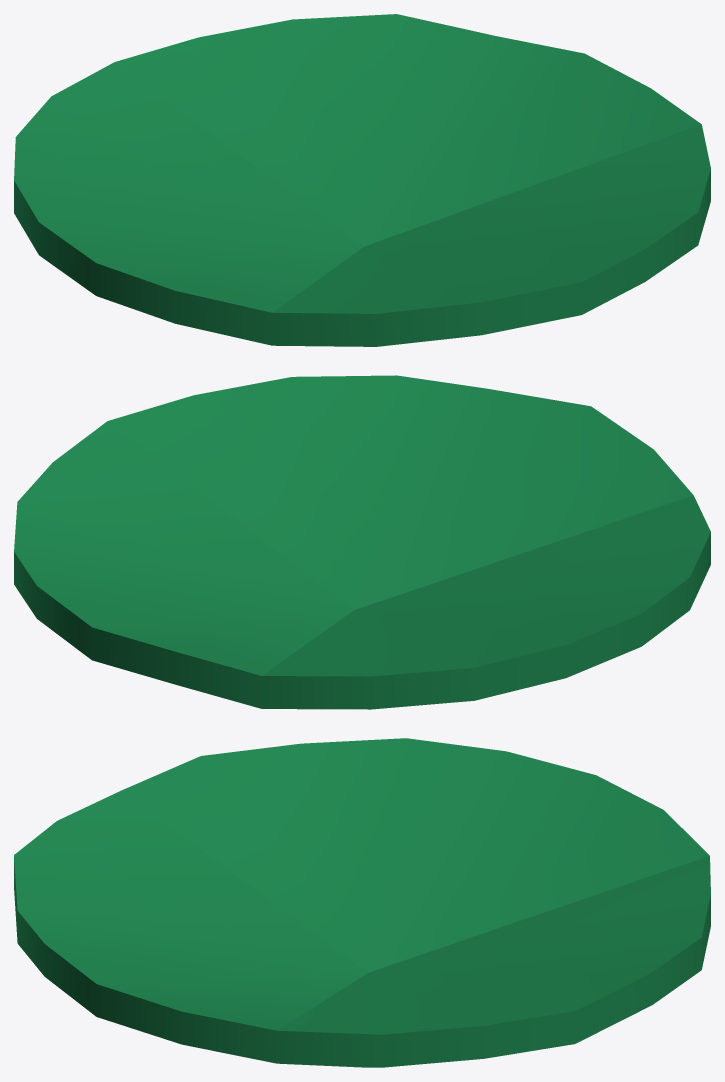
The model's file is plant_mushroom_leaf_C_thick.fbx.
3 renders of one model, top to bottom at view 1: azimuth 30°, elevation 25°; view 2: azimuth 150°, elevation 25°; view 3: azimuth 270°, elevation 25°, orthographic.
Parts seen in each view (by area): view 1: plant_mushroom_leaf_C_thick; view 2: plant_mushroom_leaf_C_thick; view 3: plant_mushroom_leaf_C_thick.
Part boxes in pixels (x1=…): plant_mushroom_leaf_C_thick: x1=14, y1=14, x2=710, y2=346; plant_mushroom_leaf_C_thick: x1=14, y1=375, x2=710, y2=709; plant_mushroom_leaf_C_thick: x1=14, y1=738, x2=710, y2=1067.
Bounding box in the file's own units: 28.37 × 8.29 × 28.54.
